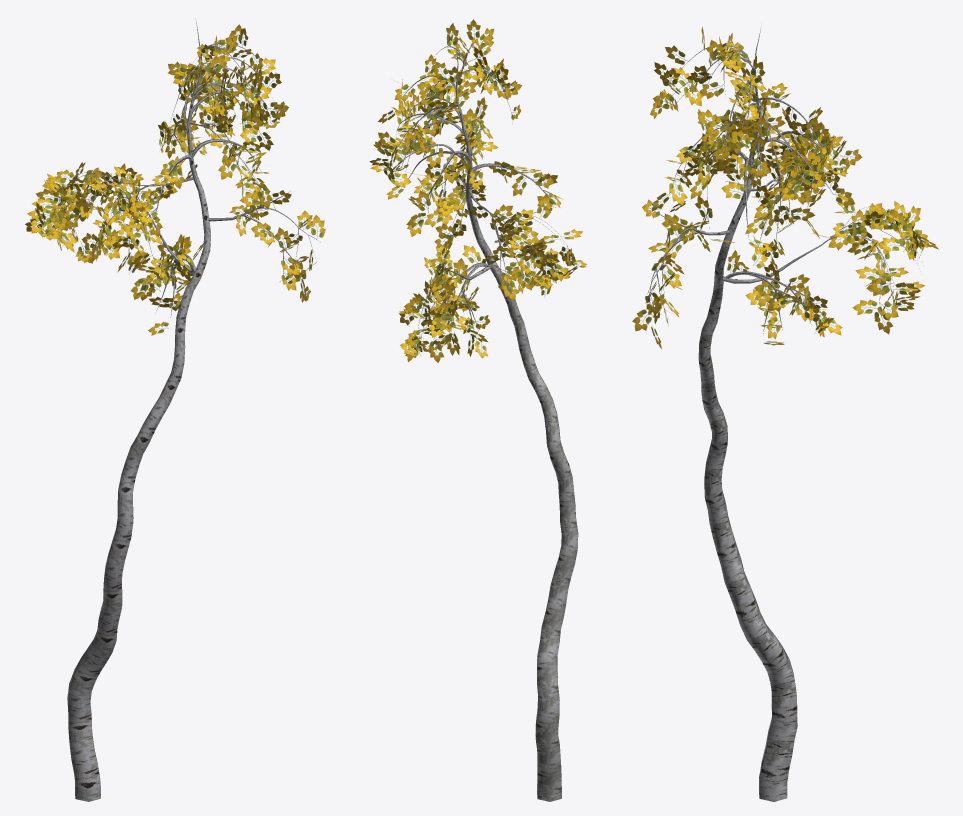
File: quaking_aspen_3.glb
The picture shows the model from 3 angles, left to right: view 1: azimuth 30°, elevation 25°; view 2: azimuth 150°, elevation 25°; view 3: azimuth 270°, elevation 25°; orthographic projection. The views are drawn at different scales.
Visible parts, largest first — view 1: foliage.005, structure.005; view 2: foliage.005, structure.005; view 3: foliage.005, structure.005.
Boxes of the visible parts, bbox=[...] form: foliage.005: bbox=[25, 24, 325, 335]; structure.005: bbox=[50, 17, 320, 801]; foliage.005: bbox=[369, 19, 586, 362]; structure.005: bbox=[387, 42, 578, 801]; foliage.005: bbox=[632, 27, 938, 349]; structure.005: bbox=[645, 26, 915, 801].
Bounding box in the file's own units: 9.46 × 28.53 × 10.15.
2 materials, 2 textured.
